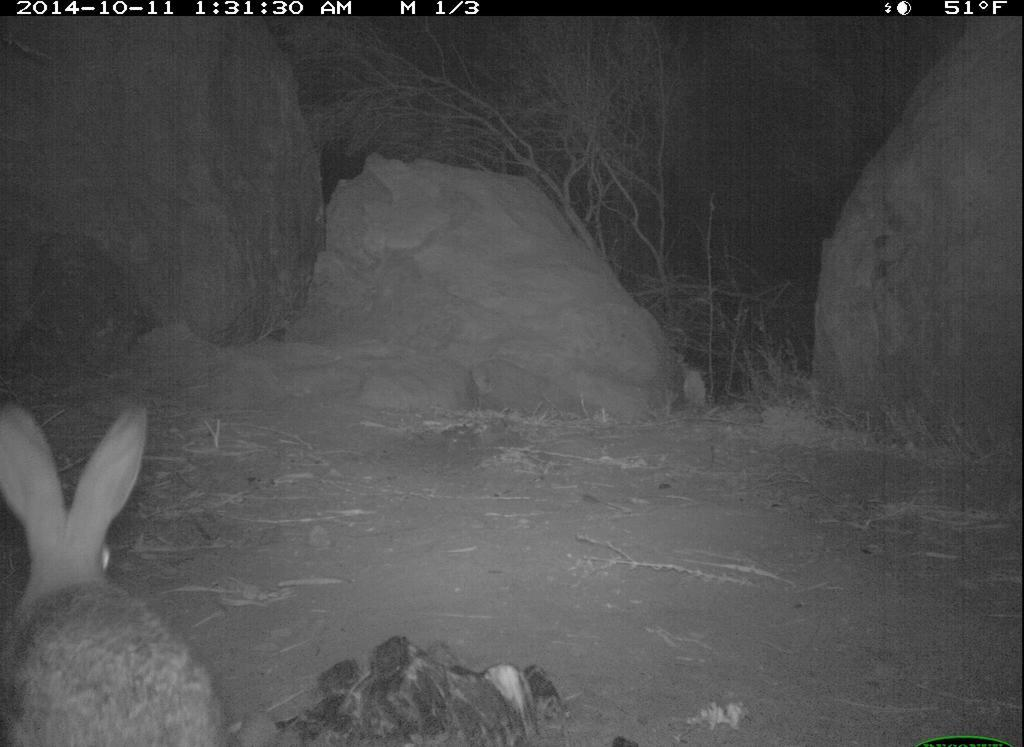rabbit: (6, 400, 232, 740)
